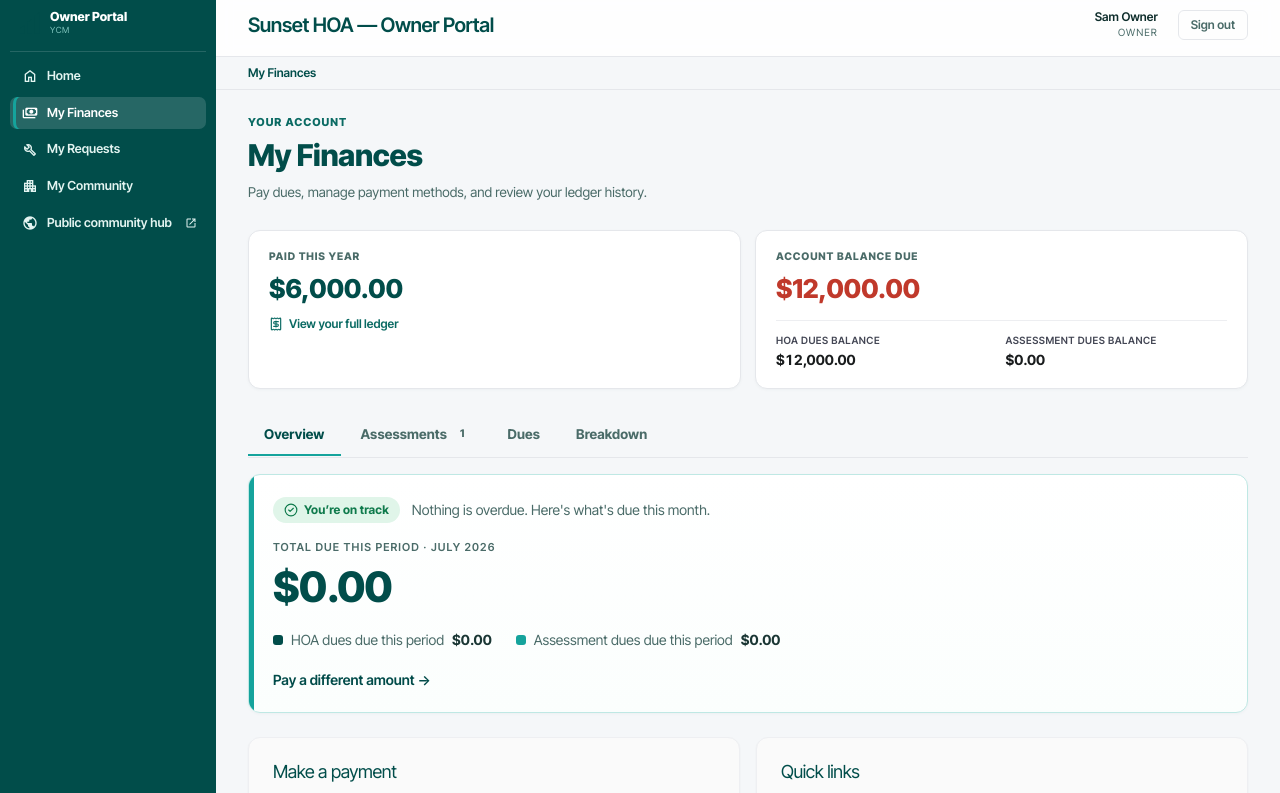
Scenario: Portal Finances — 'Pay this period' + assessment PLAN redesign (2026-07-09) › renders the special assessment as a PLAN (total · remaining over time · progress), On track — no red
Expected: the heading "My Finances" is shown, [248,136,423,172]
Click the tab with test id "portal-finances-tab-assessments".
click(416, 434)  # box [344,412,487,456]
(page scrolled)
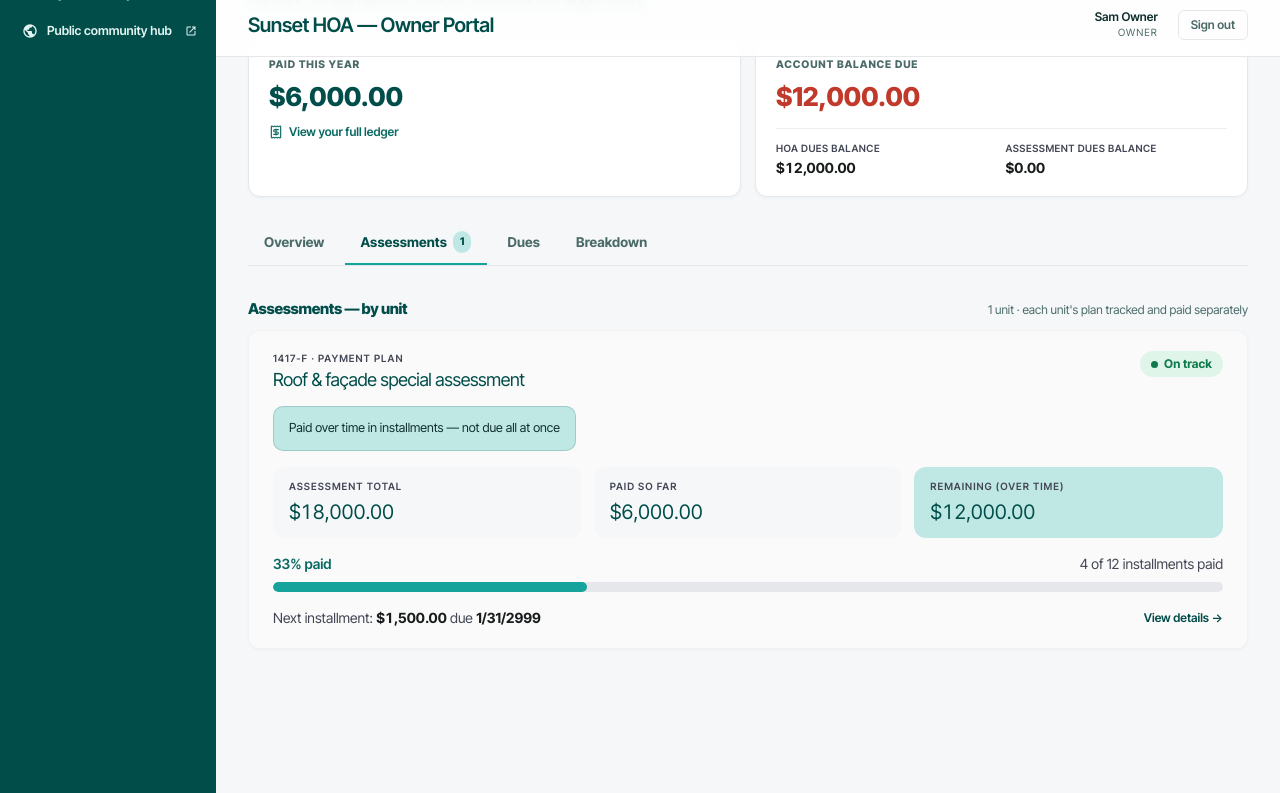
Result: the element with test id "portal-finances-assessment-plan-a-roof" shows "33% paid" at [248,330,1248,649]
Result: the element with test id "portal-finances-assessment-plan-a-roof" shows "4 of 12 installments paid" at [1080,555,1223,572]
Result: the element with test id "portal-finances-assessment-plan-a-roof" shows "On track" at [1164,356,1212,371]
